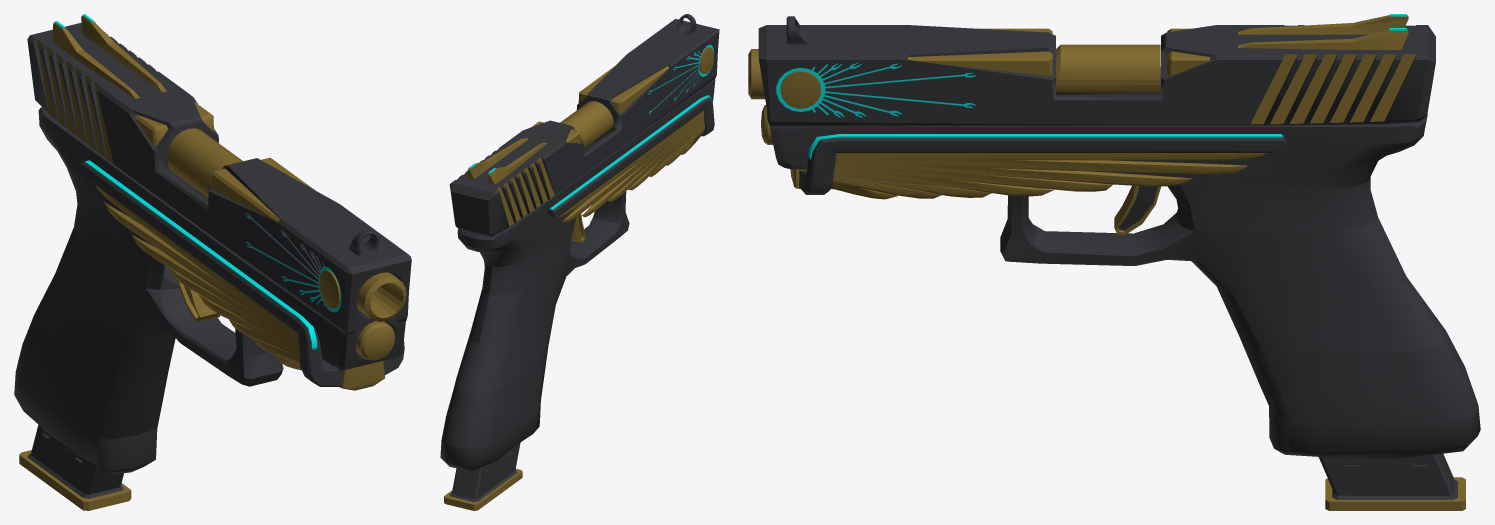
Rendered from Pistol.fbx.
3 views of the same model, side by side, from view 1: azimuth 30°, elevation 25°; view 2: azimuth 150°, elevation 25°; view 3: azimuth 270°, elevation 25° (orthographic). The views are drawn at different scales.
Parts seen in each view (by area): view 1: Body, Slide, Barrel, Mag, WingGlow, Trigger, AtenGlow; view 2: Body, Slide, Mag, Barrel, WingGlow, AtenGlow; view 3: Body, Slide, Mag, Barrel, AtenGlow, WingGlow, Trigger.
Part boxes in pixels (box(x1,y1,x2,y2)): Body: box(14, 107, 405, 474); Slide: box(27, 16, 411, 335); Barrel: box(167, 128, 406, 321); Mag: box(19, 425, 131, 510); WingGlow: box(85, 160, 317, 350); Trigger: box(177, 280, 220, 321); AtenGlow: box(246, 214, 341, 312); Body: box(440, 78, 715, 471); Slide: box(449, 14, 719, 237); Mag: box(444, 442, 522, 510); Barrel: box(560, 101, 613, 148); WingGlow: box(550, 95, 712, 209); AtenGlow: box(648, 44, 714, 114); Body: box(761, 104, 1480, 458); Slide: box(758, 15, 1435, 125); Mag: box(1319, 453, 1465, 510); Barrel: box(748, 44, 1160, 99); AtenGlow: box(776, 62, 975, 117); WingGlow: box(808, 134, 1282, 159); Trigger: box(1114, 185, 1161, 235).
Bounding box in the file's own units: 2.71 × 12.38 × 17.07.
